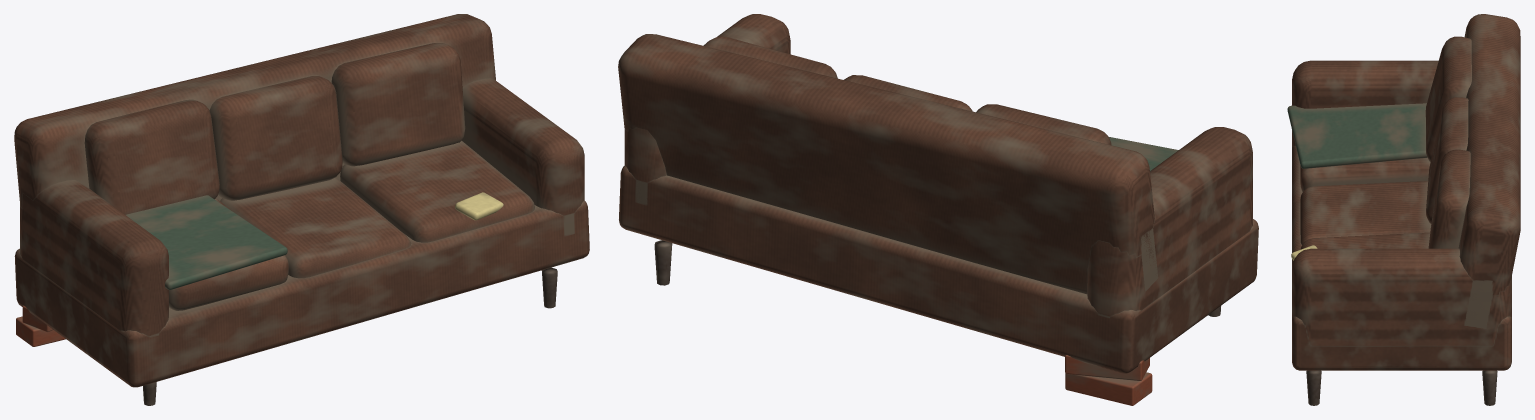
Rendered from pod_kanapa.glb.
3 renders of one model, left to right at view 1: azimuth 30°, elevation 25°; view 2: azimuth 150°, elevation 25°; view 3: azimuth 270°, elevation 25°, orthographic. The views are drawn at different scales.
Parts seen in each view (by area): view 1: Kanapa, Drobiazgi; view 2: Kanapa, Drobiazgi; view 3: Kanapa, Drobiazgi.
Boxes of the visible parts, x1,y1,x2,y2 form: Kanapa: [14, 14, 589, 405]; Drobiazgi: [16, 192, 503, 346]; Kanapa: [618, 14, 1258, 373]; Drobiazgi: [1065, 137, 1178, 405]; Kanapa: [1292, 14, 1520, 405]; Drobiazgi: [1287, 103, 1427, 260].
Bounding box in the file's own units: 1.81 × 0.8031 × 0.848.
2 materials, 2 textured.
